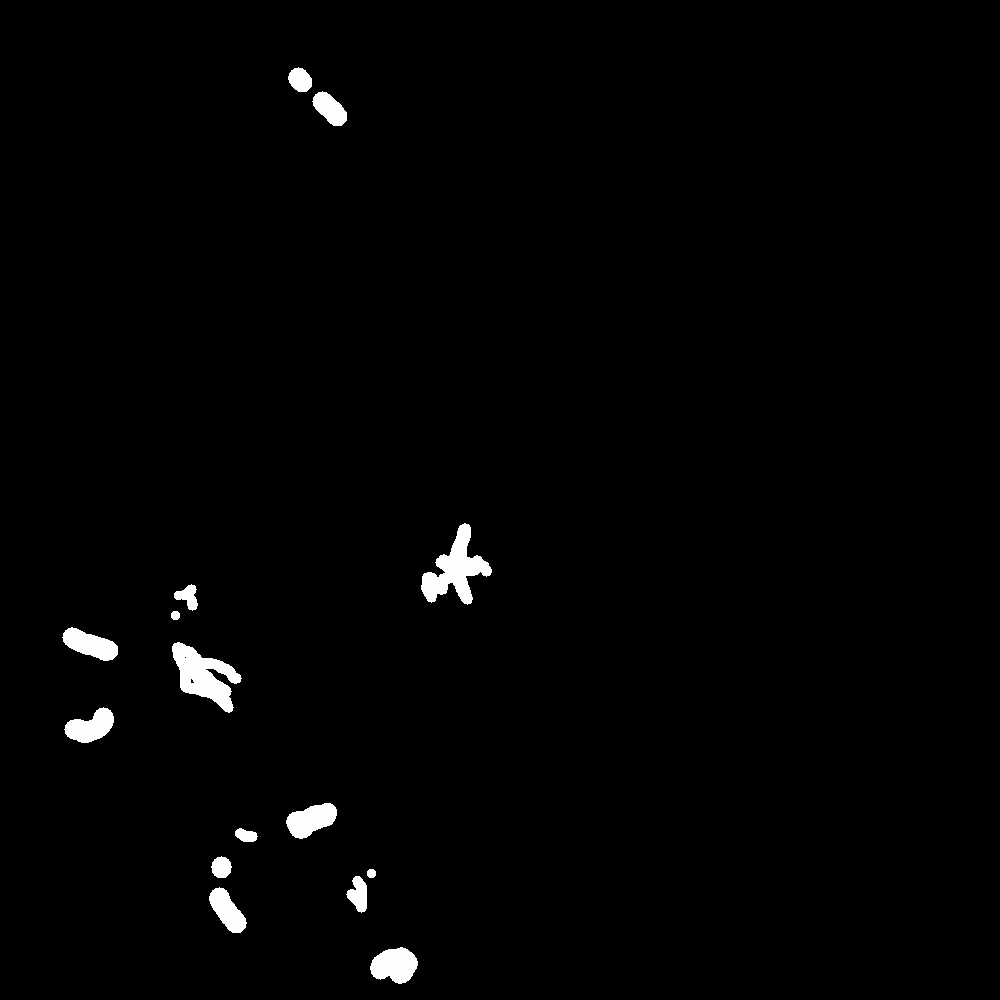illegal: (60, 626, 123, 749), (212, 842, 262, 938), (168, 644, 241, 702), (377, 951, 431, 977)
